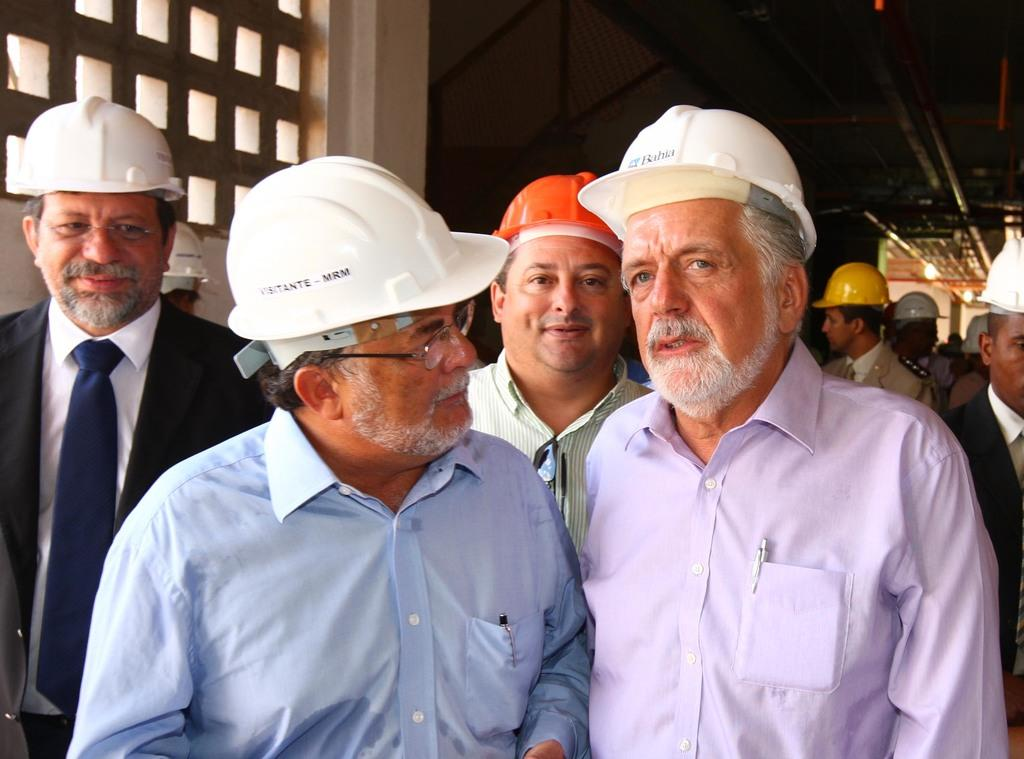helmet: (225, 155, 509, 445), (578, 104, 817, 400), (14, 96, 186, 323), (486, 172, 635, 369), (977, 237, 1023, 409), (811, 262, 892, 350), (133, 221, 209, 308), (890, 290, 950, 354)
